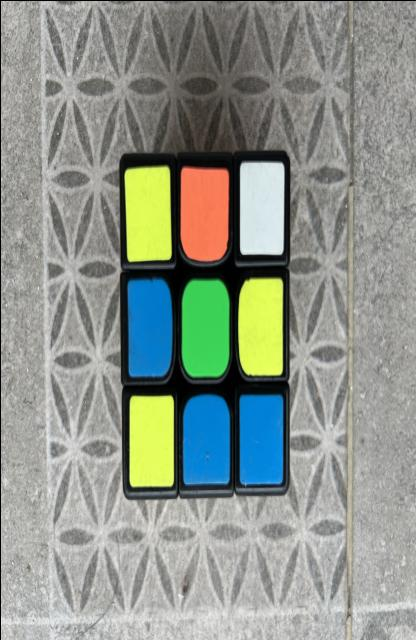Blue: (127, 277, 171, 377), (182, 393, 229, 485), (238, 393, 282, 483)
Green: (180, 277, 229, 377)
Orange: (180, 165, 228, 260)
White: (239, 160, 284, 255)
Yellow: (124, 165, 171, 262), (237, 277, 283, 375), (128, 395, 173, 487)
